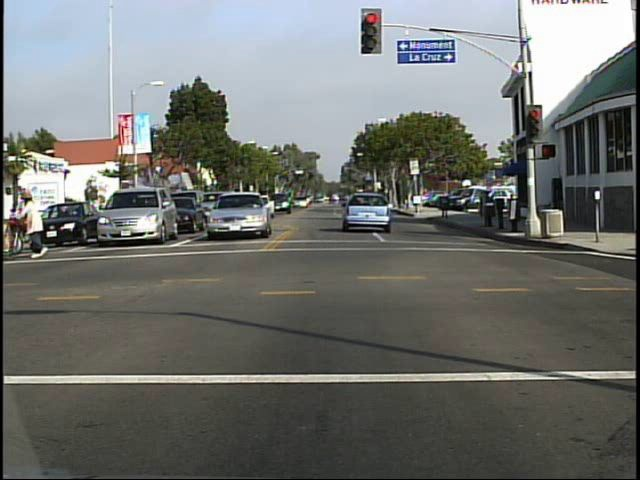person: (10, 182, 57, 273)
